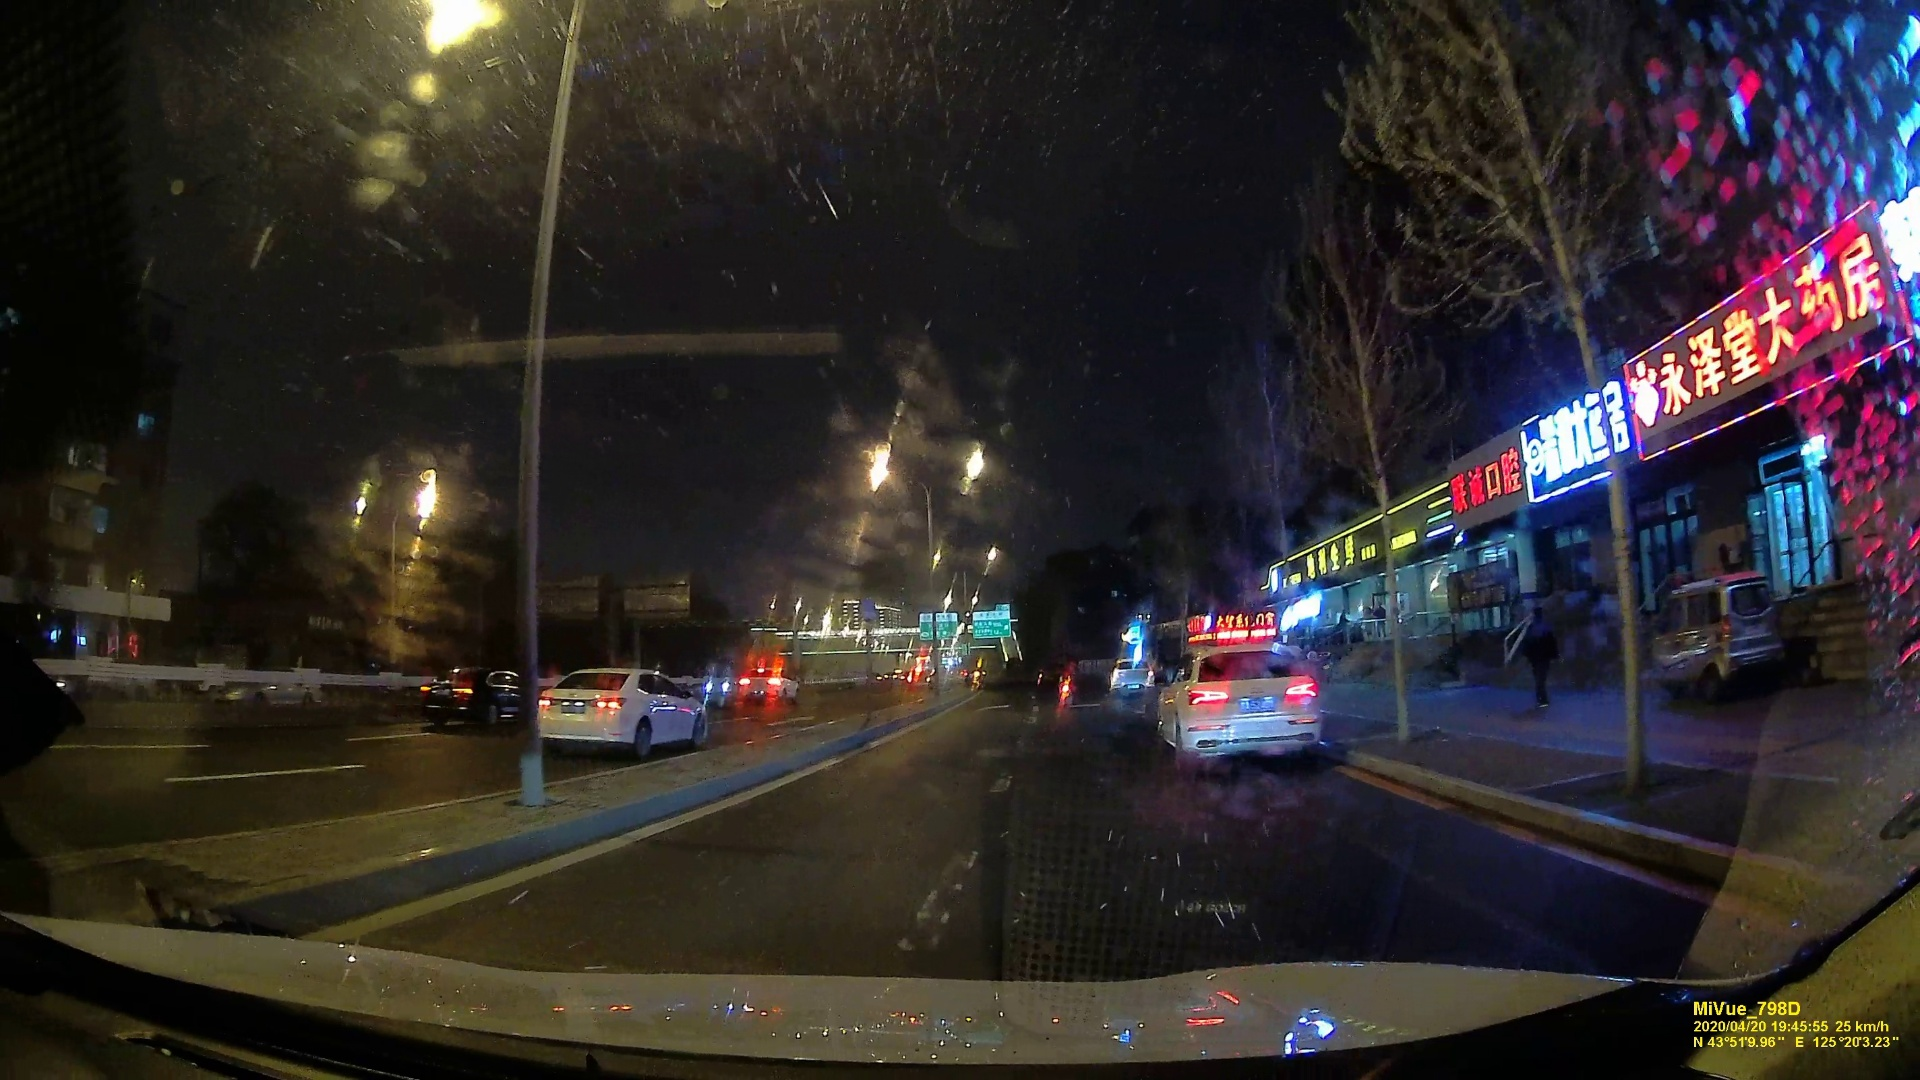person: (1521, 601, 1558, 714)
traffic_sign: (972, 611, 1009, 636), (919, 612, 956, 637)
vehicle: (1156, 646, 1314, 764), (536, 664, 706, 758), (414, 663, 529, 727), (736, 667, 795, 706), (697, 664, 732, 699)
